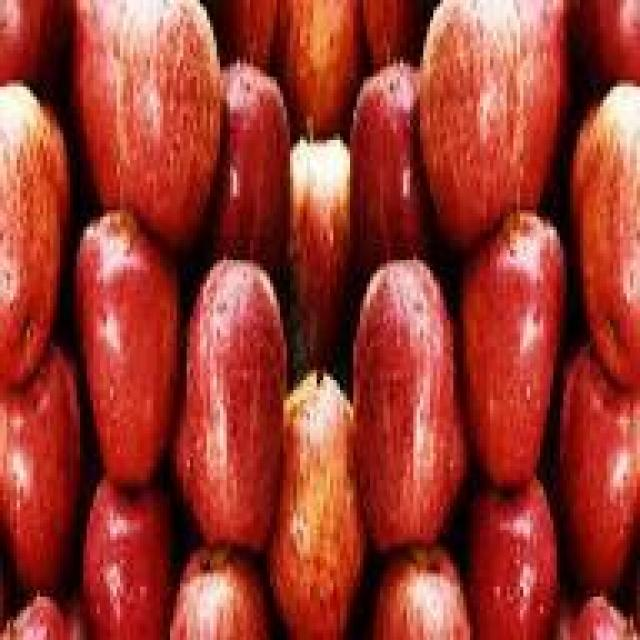apple: (260, 347, 377, 630), (70, 216, 177, 476), (183, 253, 277, 530), (464, 224, 564, 474), (354, 267, 464, 493), (117, 7, 220, 243), (206, 57, 306, 293), (547, 327, 633, 593), (417, 7, 530, 203), (283, 113, 367, 357), (453, 446, 560, 626), (350, 57, 437, 270), (580, 74, 640, 374), (83, 453, 160, 637)
